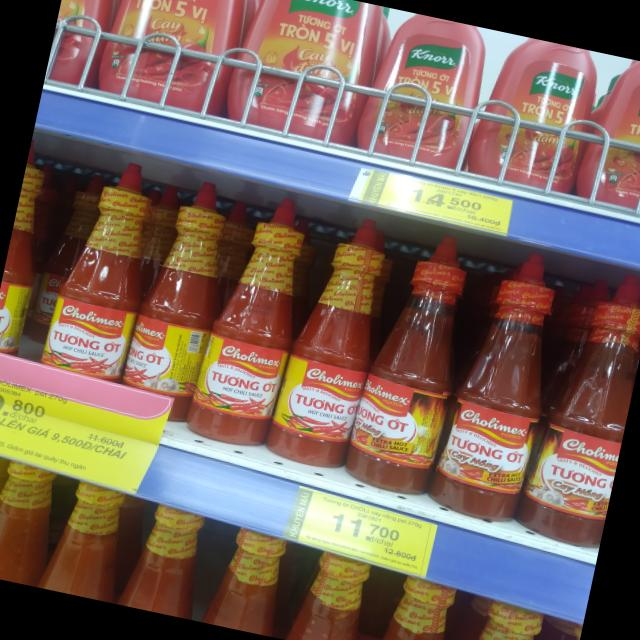tuong ot chinsu: (30, 149, 172, 410), (111, 168, 246, 432)
